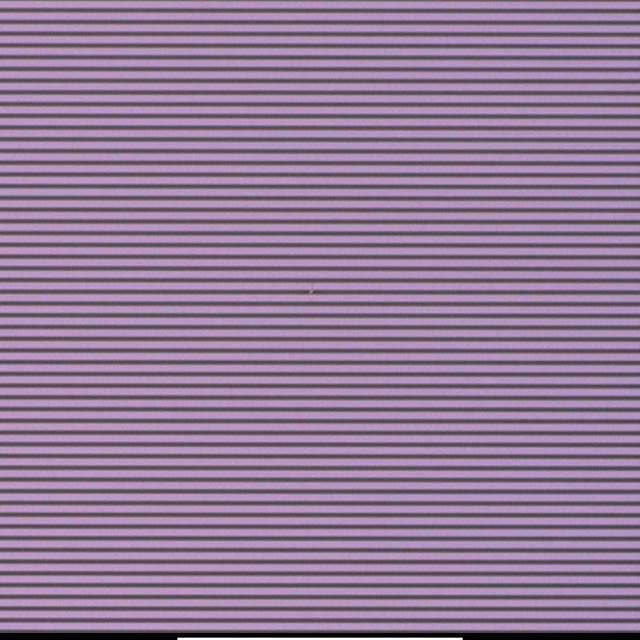03_intrusion: (306, 278, 320, 297)
